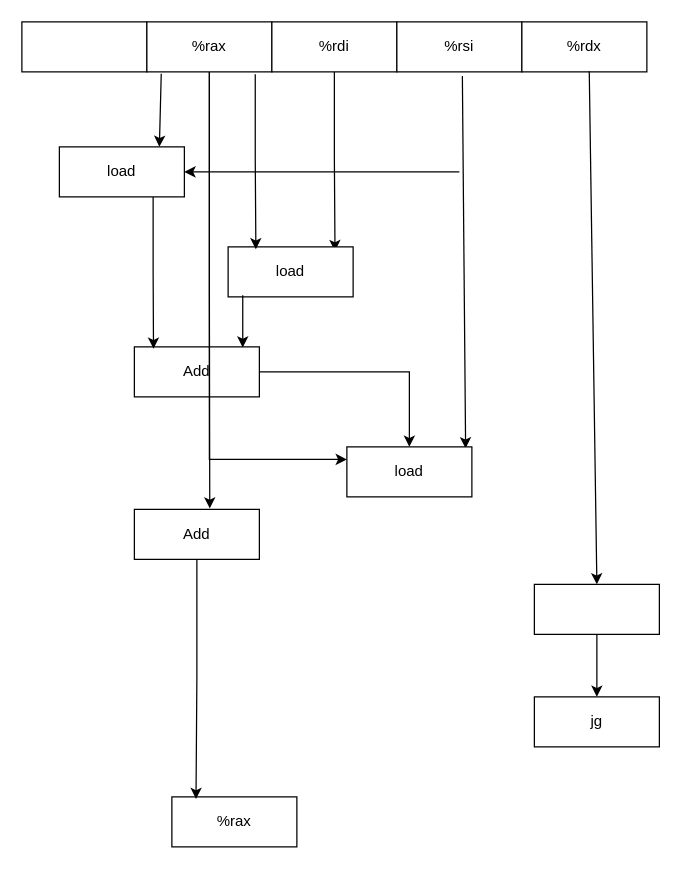
The diagram is 681 pixels wide and 869 high, and some of its shapes have lost their labels. Here are the shapes that lost their labels. From the top down, the centre of each, then its label:
At [84,46]: "%xmm0".
At [596,608]: "cmp".
